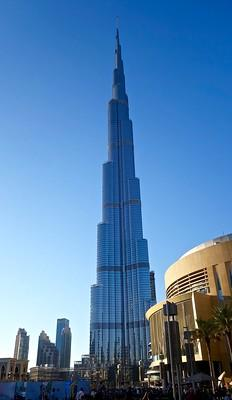building: (84, 21, 163, 382), (54, 314, 74, 374)
